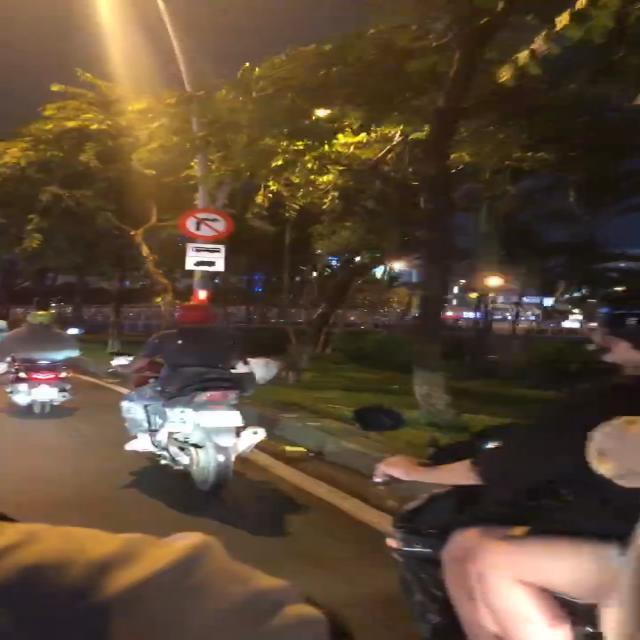Bien bao cam re phai: (180, 204, 238, 243)
